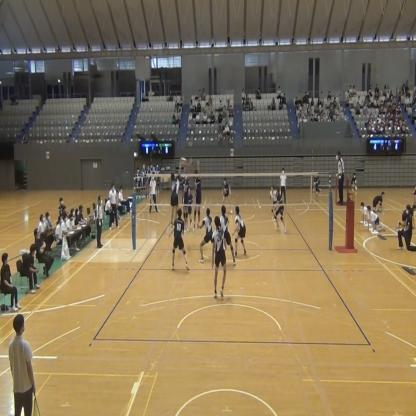spike: (167, 154, 190, 229)
